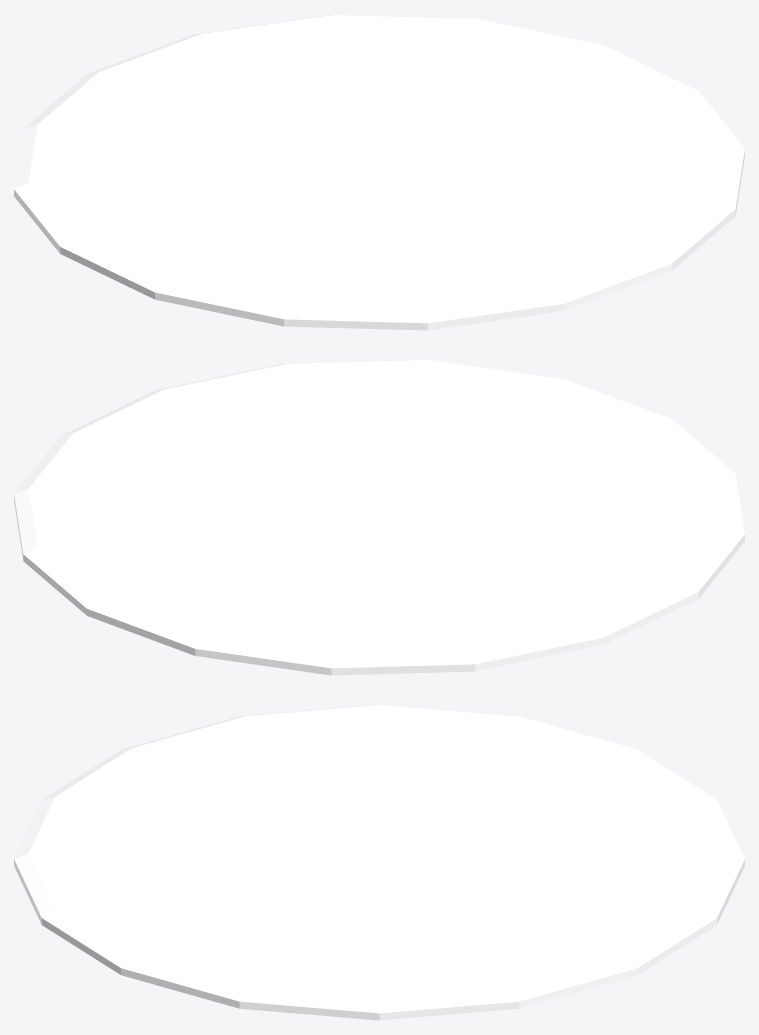
Rendered from 14335968-d47e-47fe-98ad-bb031dfcb5e9.glb.
3 renders of one model, top to bottom at view 1: azimuth 30°, elevation 25°; view 2: azimuth 150°, elevation 25°; view 3: azimuth 270°, elevation 25°, orthographic.
Visible parts, largest first — view 1: BasePlatform.008; view 2: BasePlatform.008; view 3: BasePlatform.008.
Boxes of the visible parts, bbox=[...] form: BasePlatform.008: bbox=[14, 14, 744, 330]; BasePlatform.008: bbox=[14, 359, 744, 675]; BasePlatform.008: bbox=[14, 704, 744, 1020].
Size of what is drawn, in the model's own units: 4.06 by 0.0778 by 4.06.
1 material, 1 textured.
